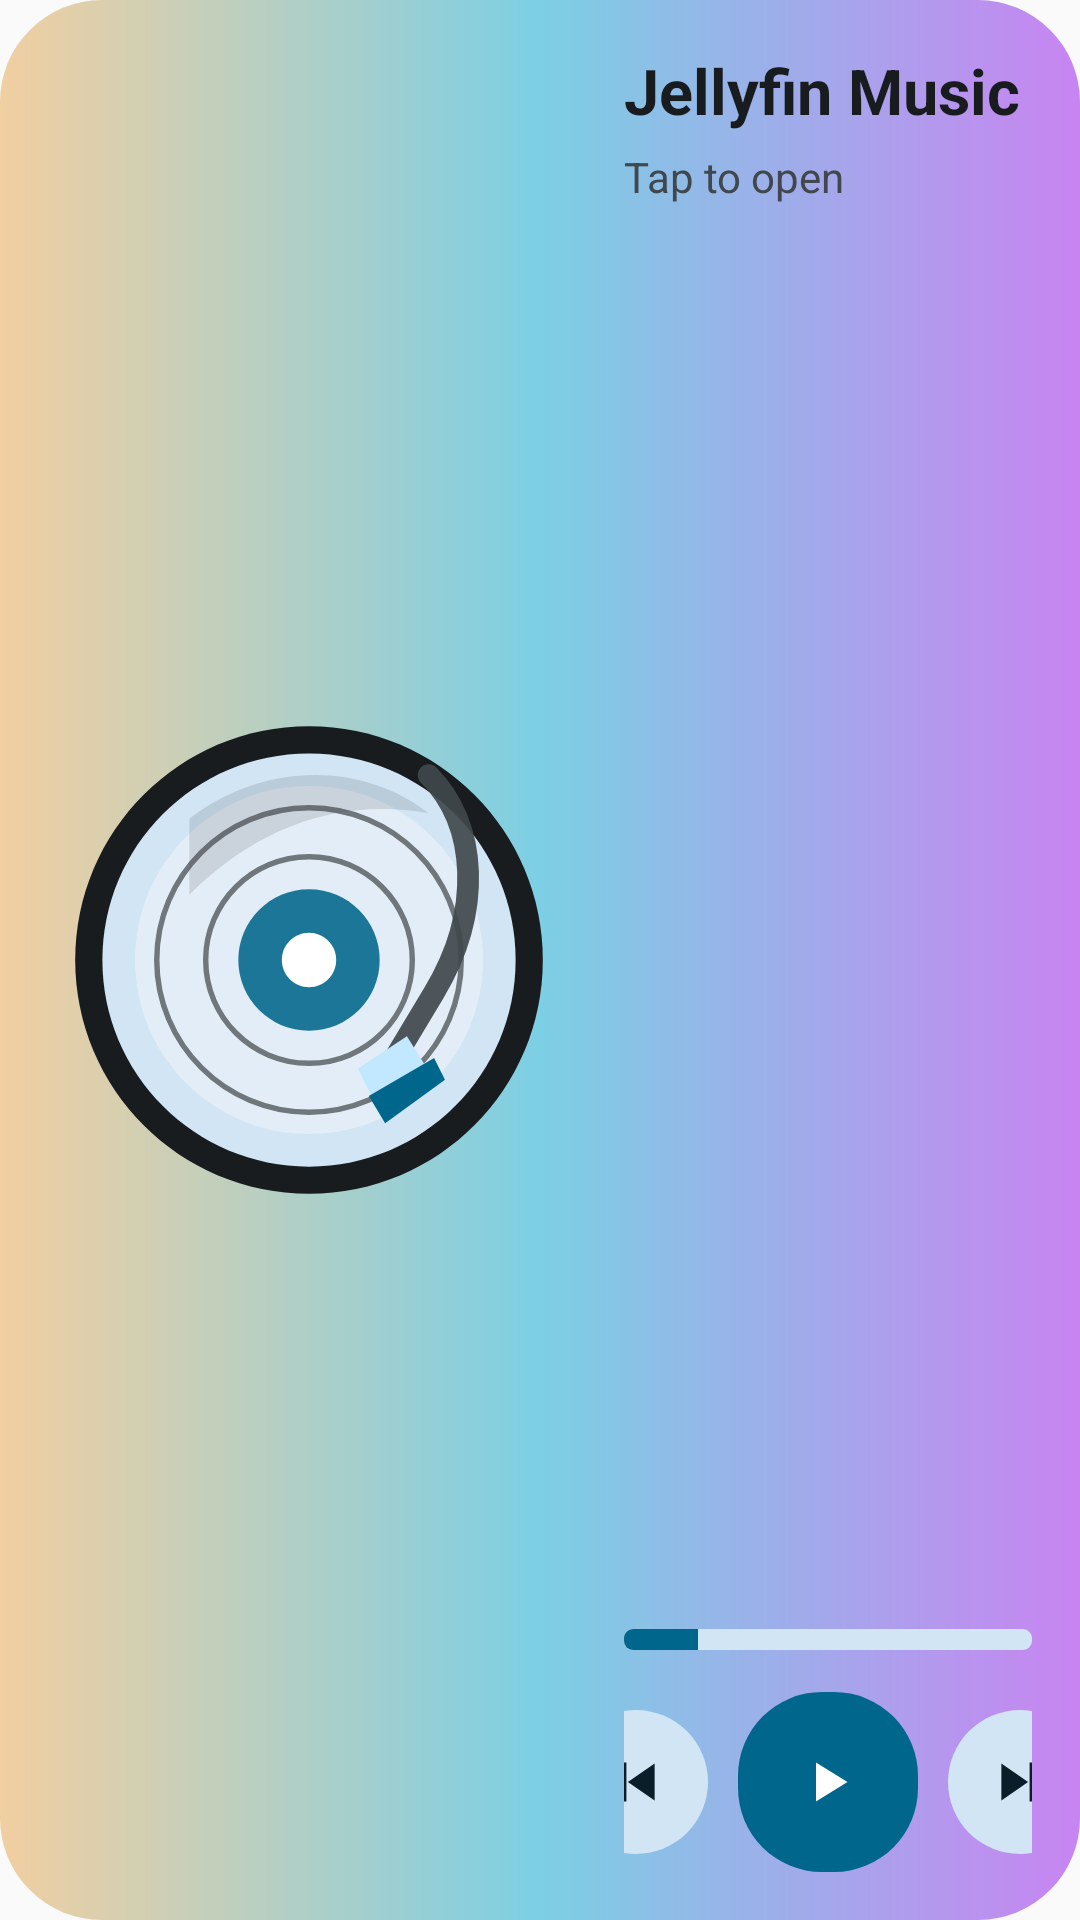

Point at icon controls on the screen. Image size 1080px x 1920px, points as (x,y).
Play or pause: (828,1782)
